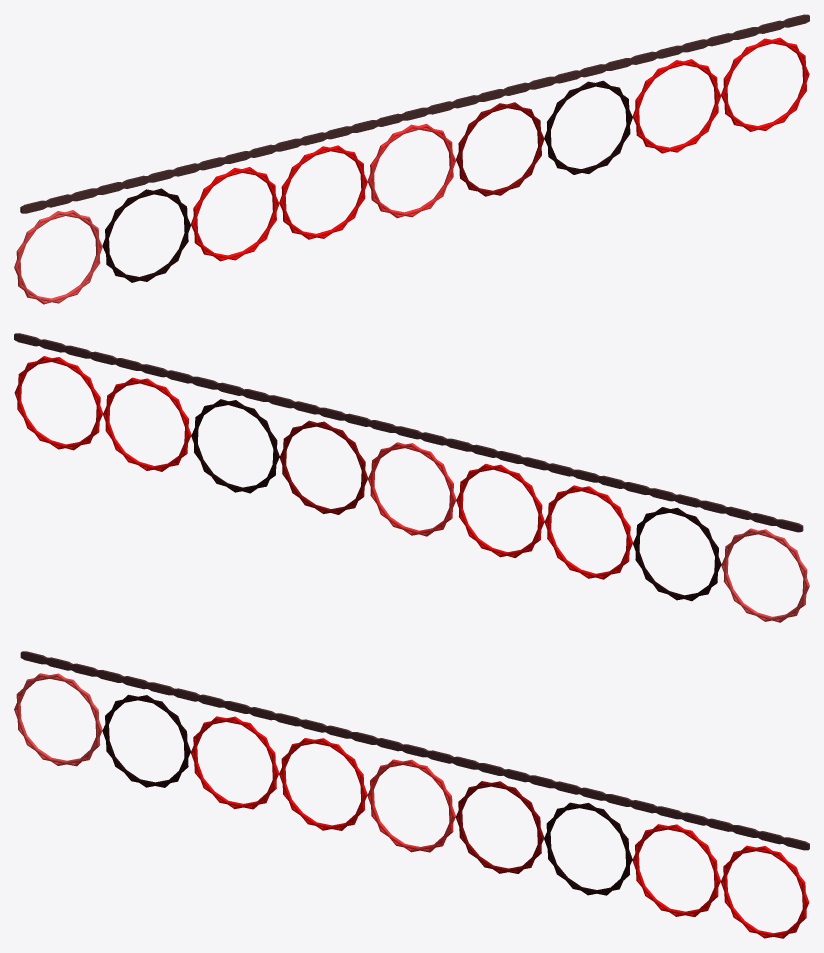
Rendered from frame_item.glb.
3 views of the same model, one above another, from view 1: azimuth 30°, elevation 25°; view 2: azimuth 150°, elevation 25°; view 3: azimuth 330°, elevation 25° (orthographic).
Parts seen in each view (by area): view 1: lvl, ring8, ring5, ring6, ring3, ring2, ring4, ring9, ring7, ring1; view 2: lvl, ring9, ring3, ring5, ring6, ring8, ring2, ring7, ring1, ring4; view 3: lvl, ring6, ring9, ring3, ring5, ring2, ring1, ring8, ring7, ring4.
Part boxes in pixels (x1,y1,x2,y2): lvl: [20, 14, 809, 213]; ring8: [632, 59, 721, 153]; ring5: [367, 124, 456, 218]; ring6: [456, 102, 544, 196]; ring3: [191, 167, 279, 261]; ring2: [102, 188, 191, 282]; ring4: [279, 145, 367, 239]; ring9: [721, 37, 809, 131]; ring7: [544, 80, 632, 174]; ring1: [14, 210, 102, 304]; lvl: [14, 333, 803, 532]; ring9: [14, 356, 103, 450]; ring3: [544, 485, 633, 579]; ring5: [368, 442, 456, 536]; ring6: [279, 420, 367, 514]; ring8: [103, 377, 191, 471]; ring2: [633, 507, 721, 601]; ring7: [191, 399, 279, 493]; ring1: [721, 528, 809, 622]; ring4: [456, 464, 544, 557]; lvl: [20, 651, 809, 850]; ring6: [455, 781, 544, 873]; ring9: [720, 845, 809, 938]; ring3: [190, 716, 279, 809]; ring5: [367, 759, 455, 852]; ring2: [102, 694, 190, 787]; ring1: [14, 673, 102, 766]; ring8: [632, 824, 720, 916]; ring7: [544, 802, 632, 895]; ring4: [279, 738, 367, 830].
Size of what is drawn, in the model's own units: 0.5242 by 0.0669 by 0.00224.
